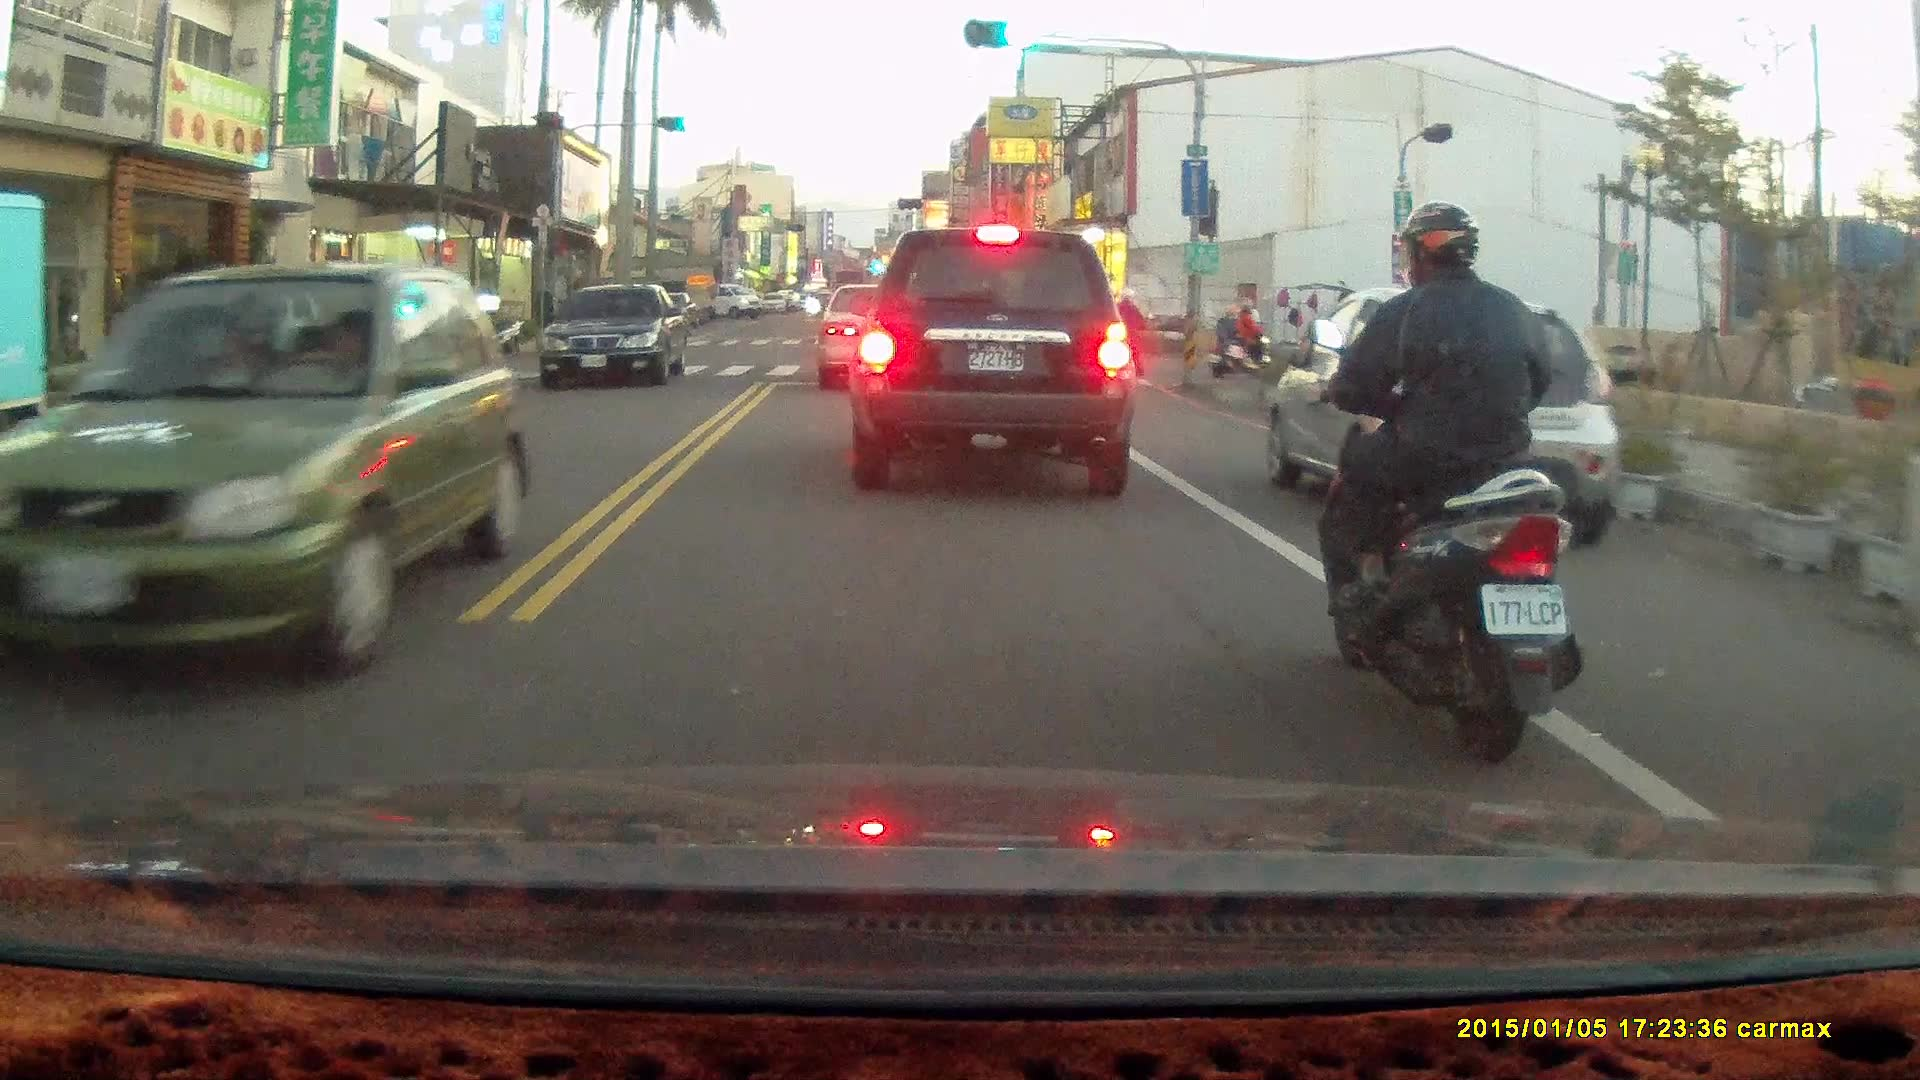rider: (1306, 200, 1584, 768), (1100, 284, 1150, 386), (1208, 296, 1270, 376)
vehicle: (1, 256, 541, 698), (1259, 289, 1626, 549), (852, 223, 1135, 500), (1, 191, 56, 498), (542, 283, 691, 392), (817, 283, 940, 397)
